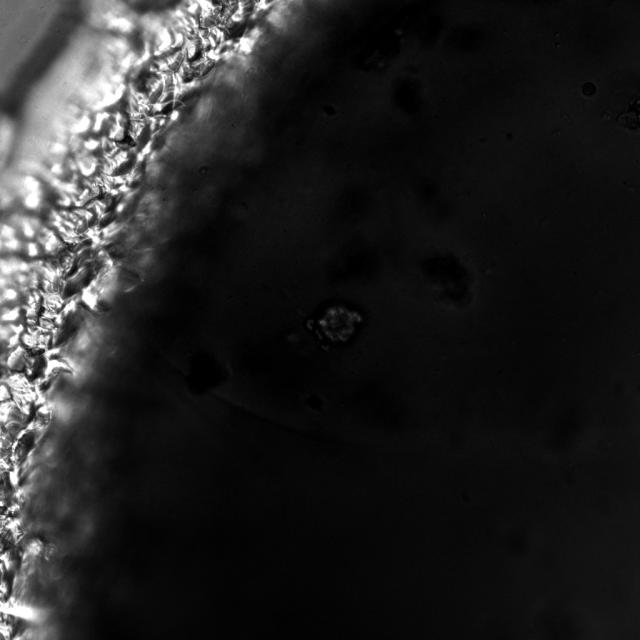organoid: (305, 299, 364, 350)
